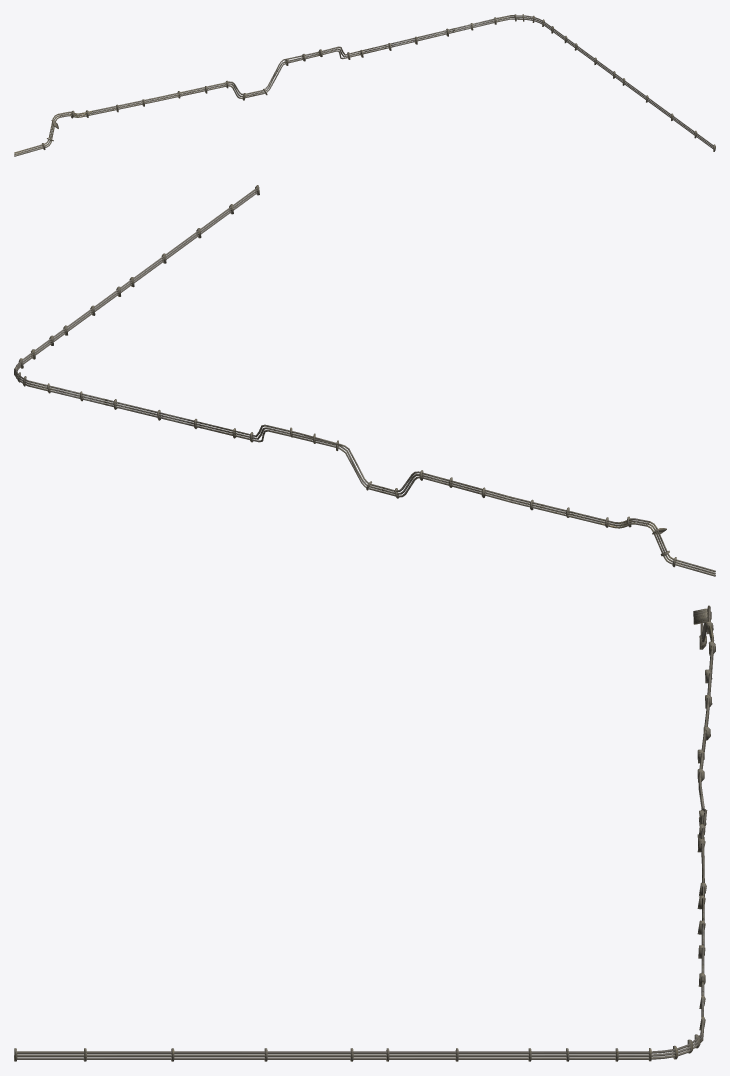
The model's file is Wire.fbx.
3 renders of one model, top to bottom at view 1: azimuth 30°, elevation 25°; view 2: azimuth 150°, elevation 25°; view 3: azimuth 270°, elevation 25°, orthographic. The views are drawn at different scales.
Visible parts, largest first — view 1: Wire; view 2: Wire; view 3: Wire.
Part boxes in pixels (x1,y1,x2,y2): Wire: [14, 14, 715, 156]; Wire: [14, 185, 715, 576]; Wire: [14, 605, 715, 1061].
Size of the model in its own units: 3896 by 236 by 2467.
